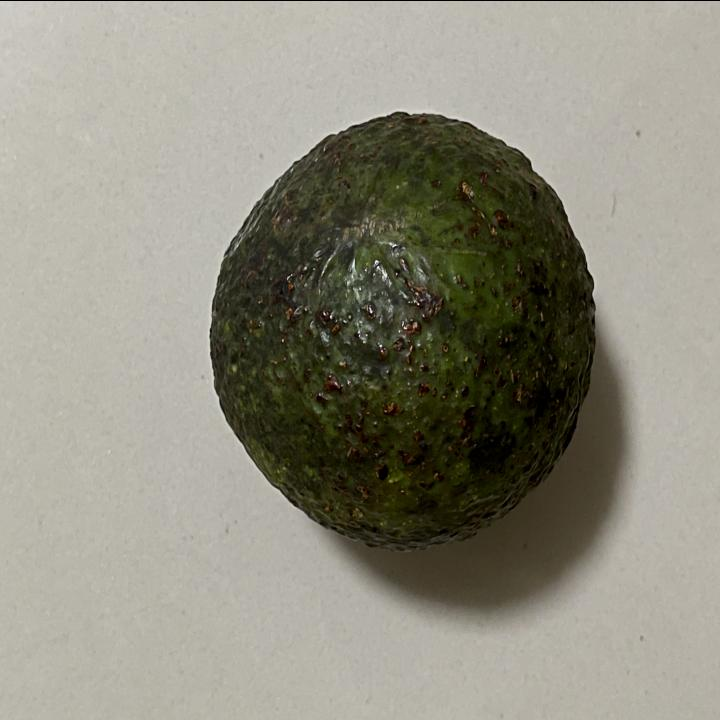Level1: (192, 91, 608, 565)
